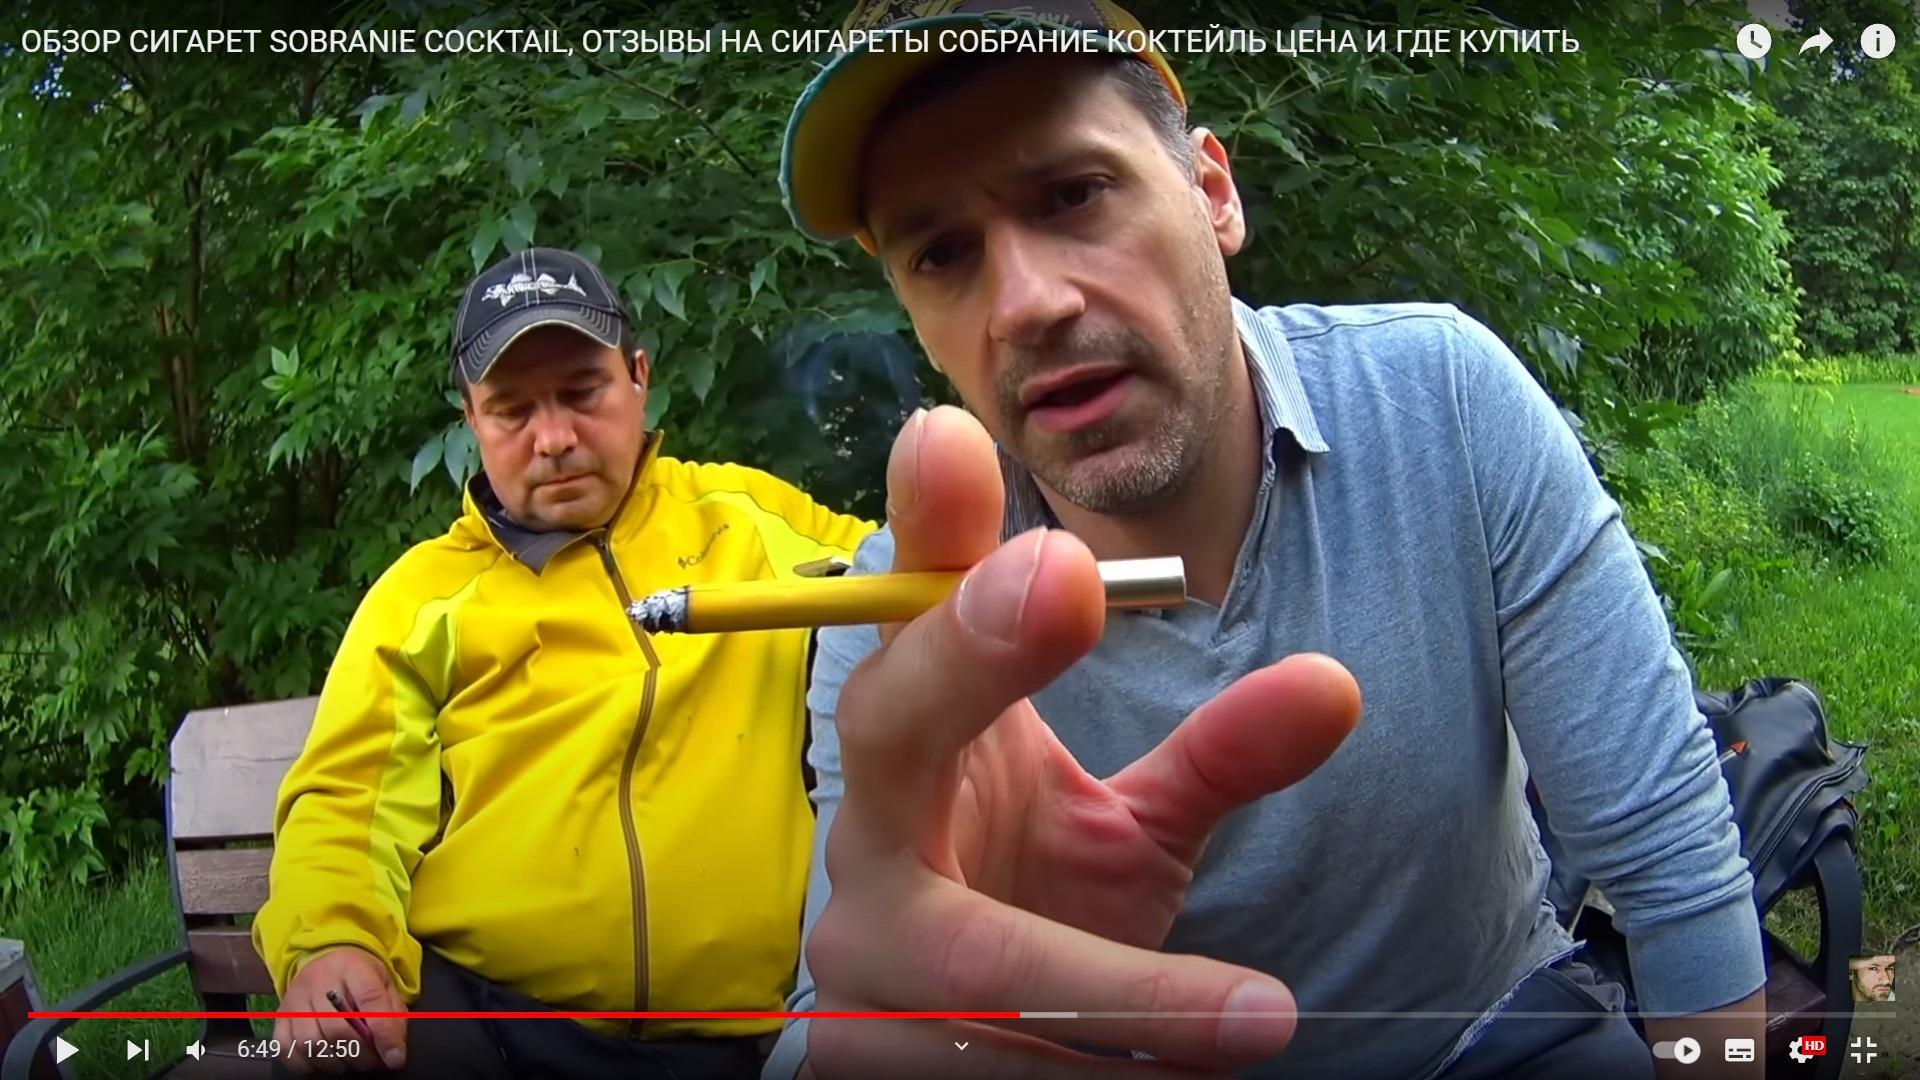cigarette: (624, 555, 1188, 637), (327, 989, 377, 1055)
